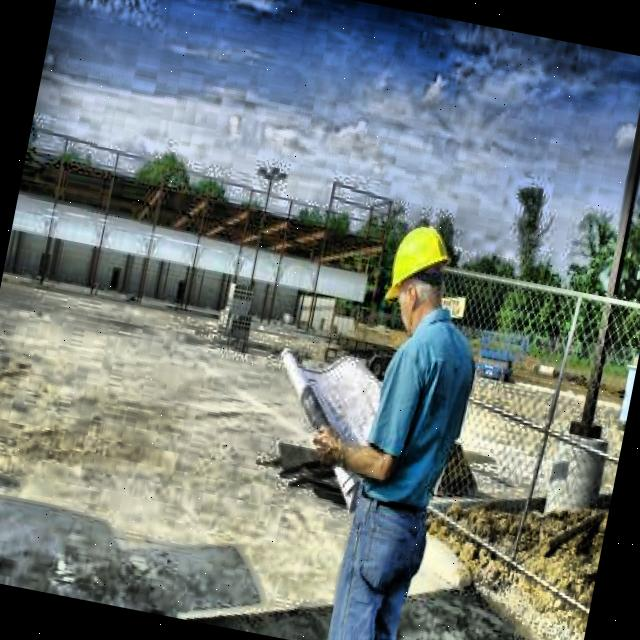helmet: (372, 207, 472, 341)
